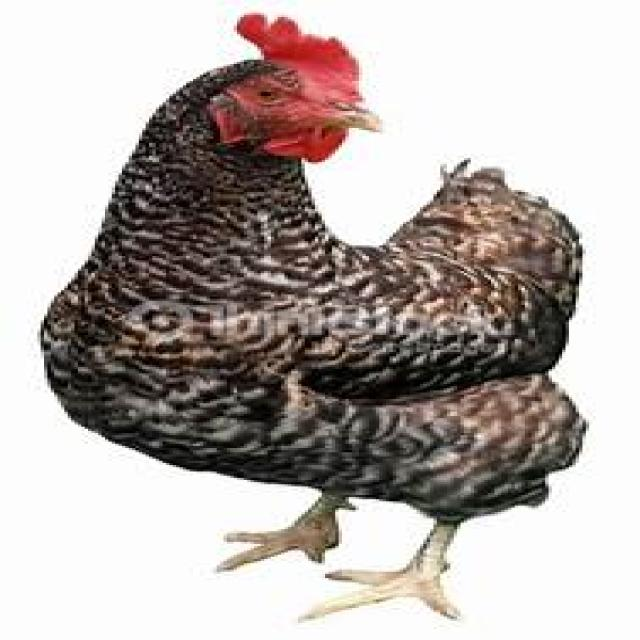animal: (49, 12, 587, 614)
